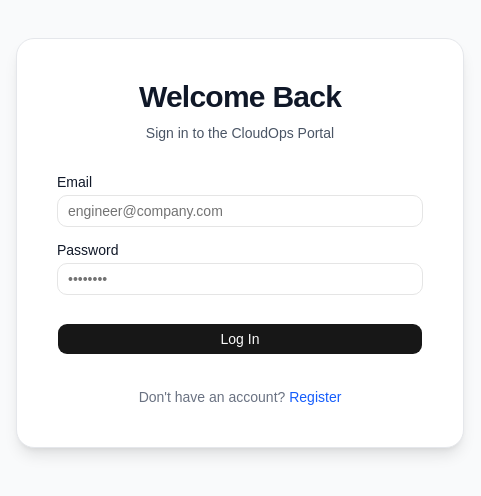
Test: LoginPage › shows both schema messages when the form is sent empty
Click the button "Log In".
click(240, 339)  # box [57, 323, 423, 355]
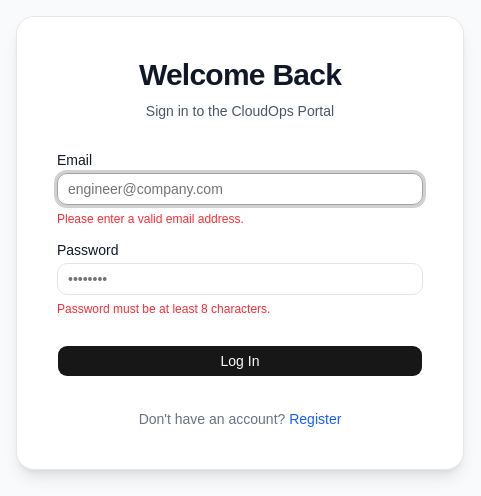
Result: the text "Please enter a valid email address." is shown at [57, 212, 244, 226]
Result: the text "Password must be at least 8 characters." is shown at [57, 302, 270, 316]
